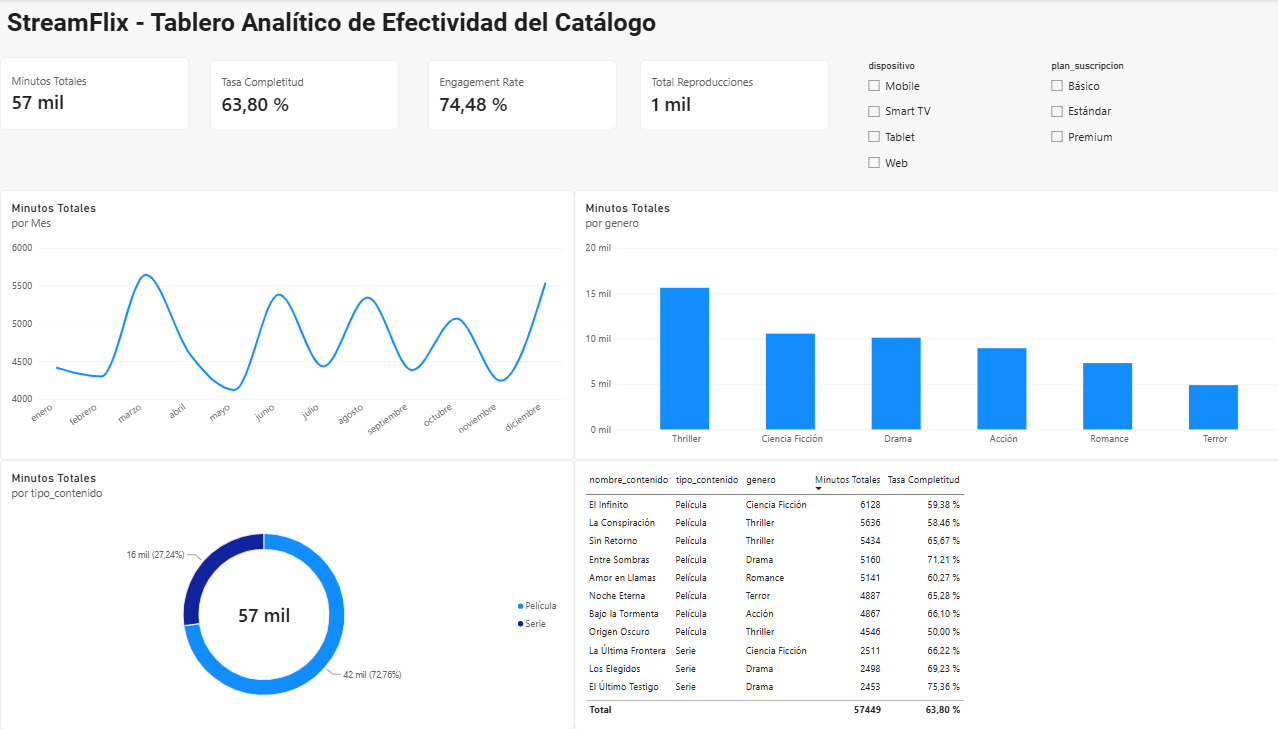

The page's visual inventory and layout, read from the dashboard file:
{"tool":"powerbi","page":{"name":"Dashboard","canvas":[1920,1080],"ordinal":0},"visuals":[{"type":"cardVisual","fields":{"Data":["Vista_Analisis_Visualizaciones csv.Minutos Totales"]},"box":[0,84.4,280,108.1],"z":0},{"type":"cardVisual","fields":{"Data":["Vista_Analisis_Visualizaciones csv.Tasa Completitud"]},"box":[311.1,88.9,280,103.7],"z":1},{"type":"cardVisual","fields":{"Data":["Vista_Analisis_Visualizaciones csv.Engagement Rate"]},"box":[634.1,88.9,280,103.7],"z":2},{"type":"cardVisual","fields":{"Data":["Vista_Analisis_Visualizaciones csv.Total Reproducciones"]},"box":[948.1,88.9,280,103.7],"z":3},{"type":"lineChart","fields":{"Category":["Vista_Analisis_Visualizaciones csv.fecha_visualizacion.Variation.Jerarquía de fechas.Mes"],"Y":["Vista_Analisis_Visualizaciones csv.Minutos Totales"]},"box":[0,281.1,851,399.7],"z":4},{"type":"clusteredColumnChart","fields":{"Category":["Vista_Analisis_Visualizaciones csv.genero"],"Y":["Vista_Analisis_Visualizaciones csv.Minutos Totales"]},"box":[851,281.1,1069,399.7],"z":5},{"type":"donutChart","fields":{"Category":["Vista_Analisis_Visualizaciones csv.tipo_contenido"],"Y":["Vista_Analisis_Visualizaciones csv.Minutos Totales"]},"box":[0,680.8,851,399.7],"z":6},{"type":"tableEx","fields":{"Values":["Vista_Analisis_Visualizaciones csv.nombre_contenido","Vista_Analisis_Visualizaciones csv.tipo_contenido","Vista_Analisis_Visualizaciones csv.genero","Vista_Analisis_Visualizaciones csv.Minutos Totales","Vista_Analisis_Visualizaciones csv.Tasa Completitud"]},"box":[851,680.8,1069,399.7],"z":7},{"type":"slicer","fields":{"Values":["Vista_Analisis_Visualizaciones csv.dispositivo"]},"box":[1278.5,88.9,226.4,192.7],"z":8},{"type":"slicer","fields":{"Values":["Vista_Analisis_Visualizaciones csv.plan_suscripcion"]},"box":[1549.6,88.9,308.4,149.4],"z":9},{"type":"textbox","box":[10.4,10.4,991.1,97.8],"z":10}]}

Visuals, with their boxes in screenshot pixels (x1, y1, x2, y2), scaled from the page's 1920x1080 canvas onto the 1278x729 screenshot:
cardVisual - Vista_Analisis_Visualizaciones csv.Minutos Totales: <box>0,57,186,130</box>
cardVisual - Vista_Analisis_Visualizaciones csv.Tasa Completitud: <box>207,60,393,130</box>
cardVisual - Vista_Analisis_Visualizaciones csv.Engagement Rate: <box>422,60,608,130</box>
cardVisual - Vista_Analisis_Visualizaciones csv.Total Reproducciones: <box>631,60,817,130</box>
lineChart - Vista_Analisis_Visualizaciones csv.fecha_visualizacion.Variation.Jerarquía de fechas.Mes x Vista_Analisis_Visualizaciones csv.Minutos Totales: <box>0,190,566,460</box>
clusteredColumnChart - Vista_Analisis_Visualizaciones csv.genero x Vista_Analisis_Visualizaciones csv.Minutos Totales: <box>566,190,1277,460</box>
donutChart - Vista_Analisis_Visualizaciones csv.tipo_contenido x Vista_Analisis_Visualizaciones csv.Minutos Totales: <box>0,460,566,728</box>
tableEx - Vista_Analisis_Visualizaciones csv.nombre_contenido x Vista_Analisis_Visualizaciones csv.tipo_contenido: <box>566,460,1277,728</box>
slicer - Vista_Analisis_Visualizaciones csv.dispositivo: <box>851,60,1002,190</box>
slicer - Vista_Analisis_Visualizaciones csv.plan_suscripcion: <box>1031,60,1237,161</box>
textbox: <box>7,7,667,73</box>
